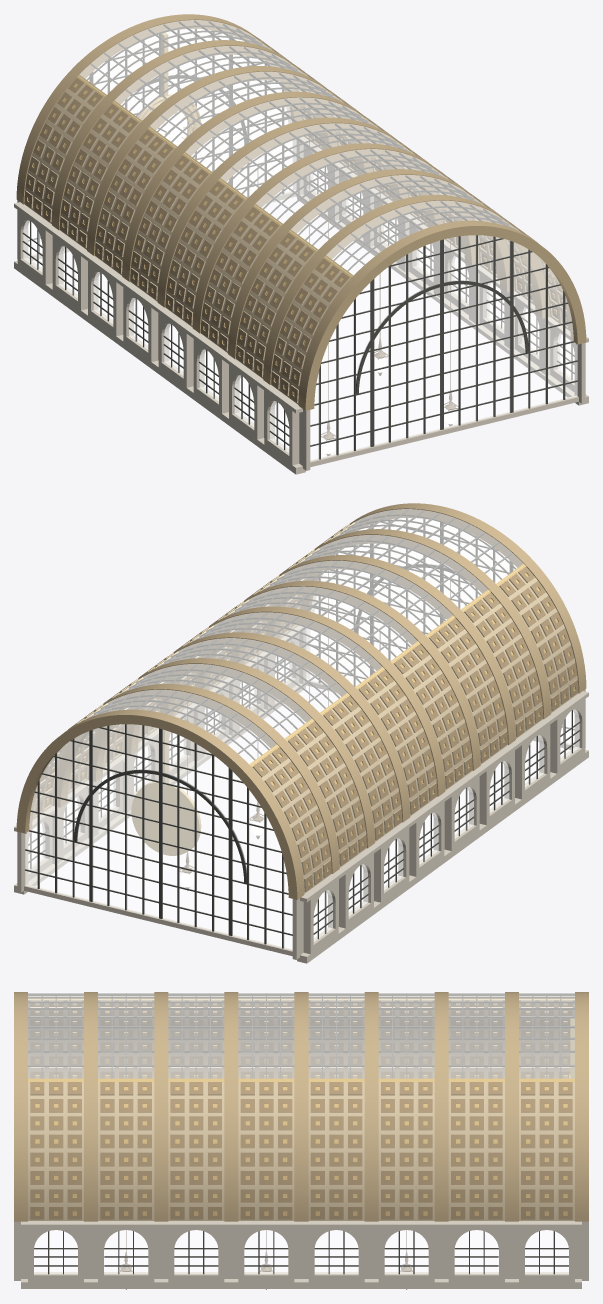
File: nef.glb
3 renders of one model, top to bottom at view 1: azimuth 30°, elevation 25°; view 2: azimuth 150°, elevation 25°; view 3: azimuth 270°, elevation 25°, orthographic.
Visible parts, largest first — view 1: Nef_Voute, Nef_Pignons_Verre, Nef_Verriere, Nef_Attique, Nef_Pignons, Nef_Baies, Nef_Lanternes, Nef_Horloge; view 2: Nef_Voute, Nef_Pignons_Verre, Nef_Verriere, Nef_Attique, Nef_Pignons, Nef_Baies, Nef_Horloge, Nef_Lanternes; view 3: Nef_Voute, Nef_Verriere, Nef_Attique, Nef_Baies, Nef_Lanternes.
Boxes of the visible parts, bbox=[...] form: Nef_Voute: bbox=[16, 14, 586, 410]; Nef_Pignons_Verre: bbox=[28, 29, 577, 461]; Nef_Verriere: bbox=[78, 20, 518, 276]; Nef_Attique: bbox=[14, 136, 588, 474]; Nef_Pignons: bbox=[28, 29, 578, 467]; Nef_Baies: bbox=[23, 167, 574, 452]; Nef_Lanternes: bbox=[181, 89, 458, 455]; Nef_Horloge: bbox=[138, 32, 200, 146]; Nef_Voute: bbox=[16, 503, 586, 899]; Nef_Pignons_Verre: bbox=[25, 518, 574, 950]; Nef_Verriere: bbox=[84, 509, 524, 765]; Nef_Attique: bbox=[14, 625, 588, 963]; Nef_Pignons: bbox=[24, 518, 574, 956]; Nef_Baies: bbox=[28, 656, 579, 941]; Nef_Horloge: bbox=[131, 729, 201, 855]; Nef_Lanternes: bbox=[179, 552, 456, 914]; Nef_Voute: bbox=[14, 992, 588, 1221]; Nef_Verriere: bbox=[28, 992, 574, 1078]; Nef_Attique: bbox=[14, 1221, 588, 1288]; Nef_Baies: bbox=[34, 1230, 568, 1273]; Nef_Lanternes: bbox=[120, 1230, 412, 1289].
Size of the model in its own units: 16.8 by 13.93 by 28.7.
